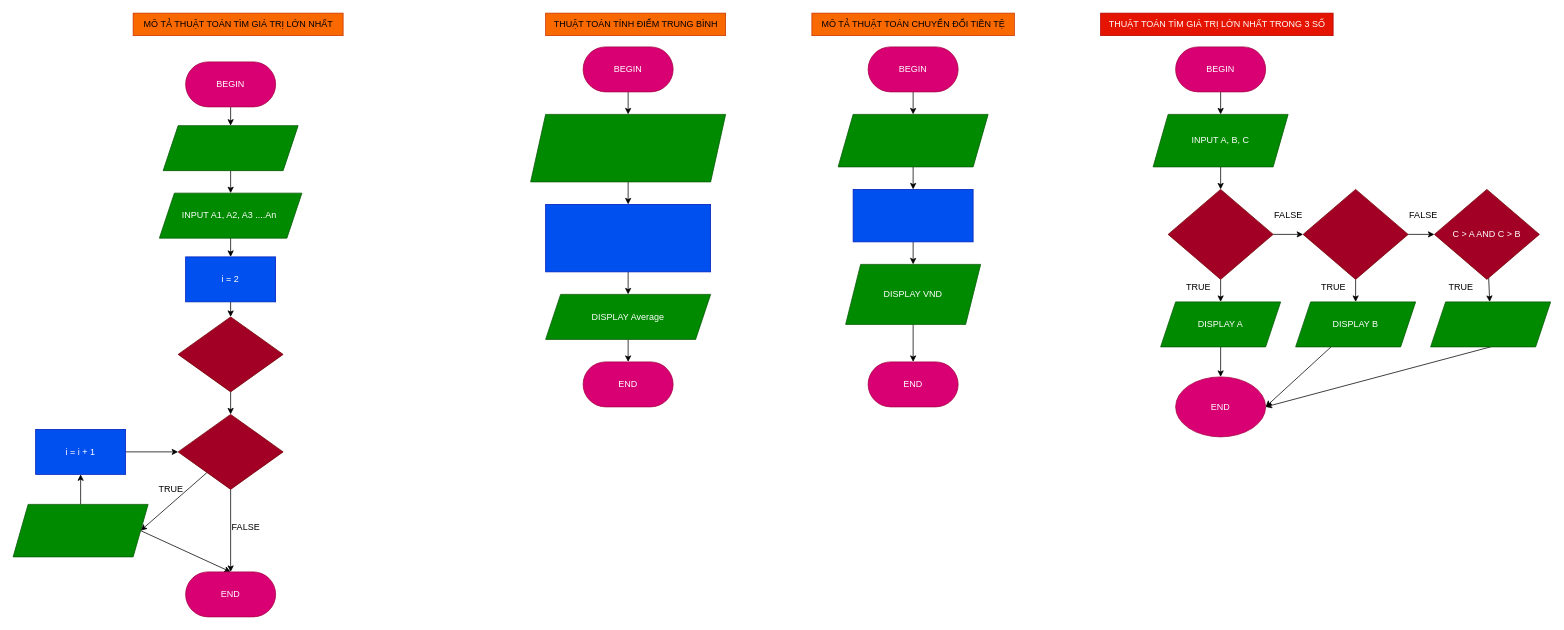
The diagram is 1564 pixels wide and 630 high, and some of its shapes have lost their labels. The shapes that lost their labels are listed below. From the top down, each one's box as (x1, y1, x2, y2) in pixels, then its label:
(162, 125, 298, 171): INPUT N
(530, 114, 726, 182): INPUT Math, Physics, Chemistry
(837, 114, 988, 167): INPUT USD
(852, 189, 973, 242): VND = USD * 23.000
(1167, 189, 1273, 279): A > B AND A > C
(1302, 189, 1408, 279): B > A AND B > C
(545, 204, 711, 272): Average = (Math + Physics + Chemistry) / 3
(1430, 301, 1551, 347): DISPLAY C
(177, 316, 283, 392): Ai MAX
(177, 414, 283, 489): A(i+1) > Ai, i >n
(12, 504, 148, 557): DISPLAY A(i+1) max
